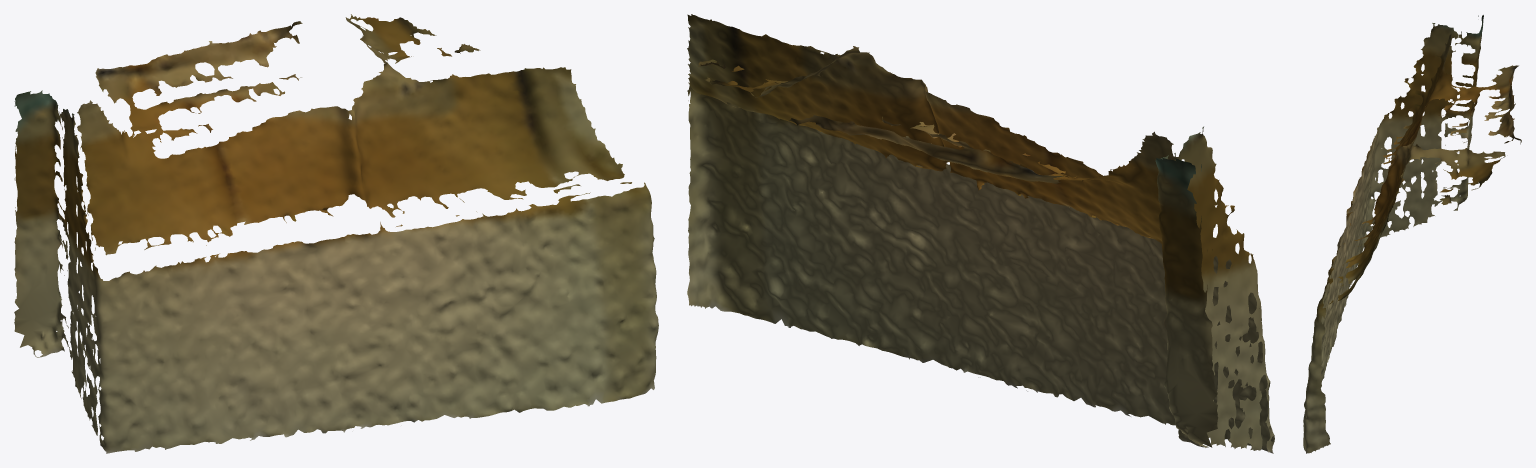
File: final_color_model_20260205_111617.obj
The picture shows the model from 3 angles, left to right: view 1: azimuth 30°, elevation 25°; view 2: azimuth 150°, elevation 25°; view 3: azimuth 270°, elevation 25°; orthographic projection. The views are drawn at different scales.
Size of the model in its own units: 1.84 by 1.09 by 0.861.
